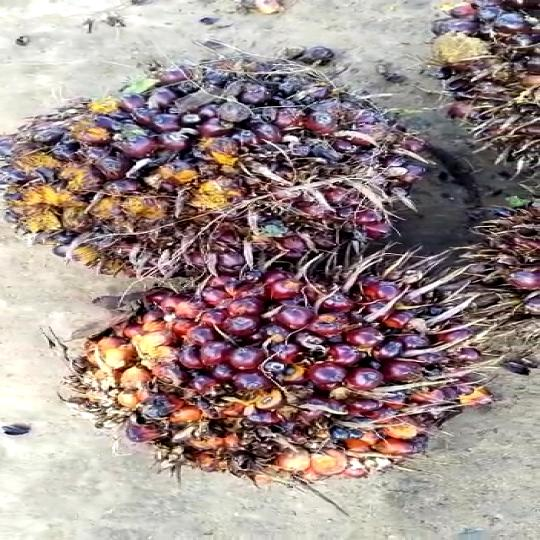masak: (47, 252, 498, 495), (0, 60, 460, 293)
